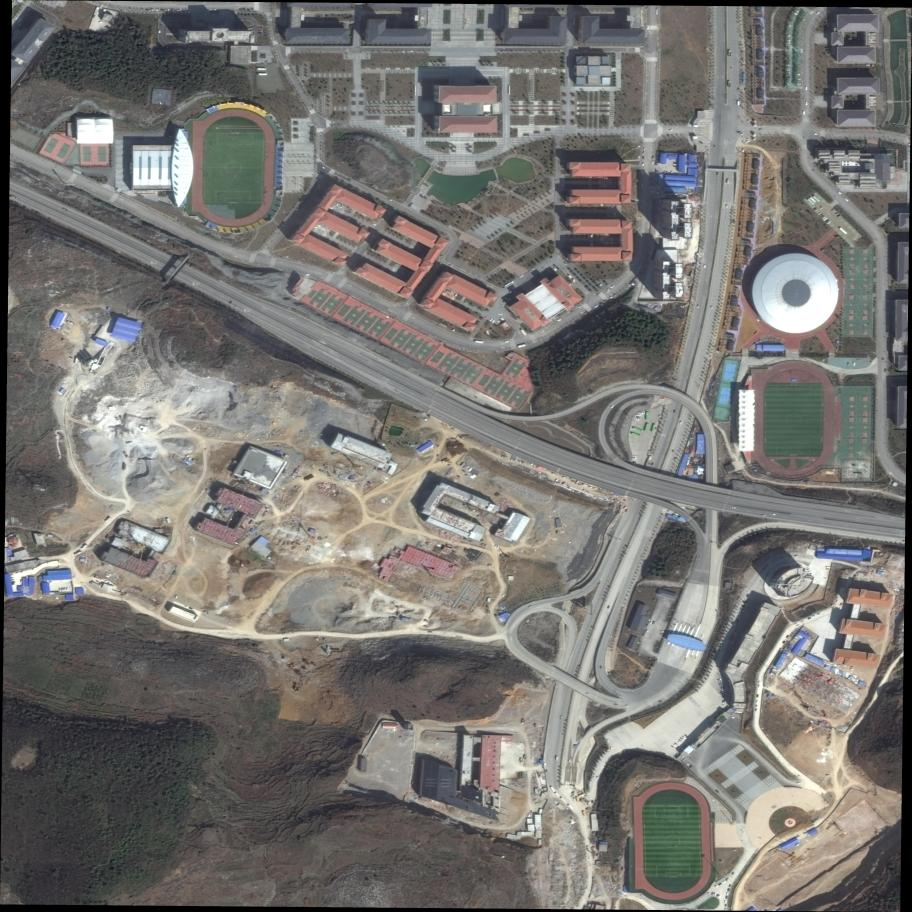large-vehicle: (630, 431, 642, 438), (632, 426, 643, 433), (807, 198, 816, 206), (809, 196, 818, 204), (812, 195, 821, 203), (839, 227, 848, 235), (520, 328, 527, 337), (643, 423, 650, 432), (517, 343, 526, 349), (650, 424, 656, 433), (475, 340, 484, 344), (645, 412, 649, 420), (258, 73, 268, 76), (728, 50, 732, 56), (737, 100, 740, 106), (257, 68, 266, 70)
small-vehicle: (609, 404, 615, 410), (844, 197, 850, 203), (812, 206, 818, 212), (518, 274, 524, 279), (511, 285, 517, 290), (593, 304, 599, 309), (836, 190, 842, 195), (792, 11, 798, 16), (793, 8, 799, 13), (830, 207, 836, 212), (717, 893, 722, 899), (836, 213, 842, 218), (586, 846, 591, 852), (685, 762, 691, 767), (339, 204, 344, 209), (497, 319, 502, 324), (501, 593, 506, 598), (610, 284, 615, 289), (583, 310, 588, 315), (502, 286, 507, 291), (819, 213, 824, 218), (815, 11, 820, 16), (817, 211, 822, 216), (807, 616, 812, 621), (834, 211, 839, 216), (688, 764, 693, 769), (673, 743, 678, 748), (680, 505, 685, 510), (700, 634, 705, 639), (675, 750, 680, 755), (680, 737, 685, 742), (577, 305, 583, 309), (785, 23, 791, 27), (800, 17, 806, 21), (805, 568, 811, 572), (760, 513, 766, 517), (727, 81, 731, 87), (726, 178, 730, 184), (613, 703, 619, 707), (716, 678, 722, 682), (373, 223, 378, 227), (454, 293, 458, 298), (484, 315, 488, 320), (489, 318, 493, 323), (492, 319, 496, 324), (496, 545, 500, 550), (335, 202, 339, 207), (388, 198, 393, 202), (557, 318, 562, 322), (641, 162, 645, 167), (822, 216, 827, 220), (823, 217, 828, 221), (827, 221, 832, 225), (794, 622, 799, 626), (811, 614, 816, 618), (816, 612, 821, 616), (807, 570, 812, 574), (823, 577, 828, 581), (528, 605, 533, 609), (646, 629, 650, 634), (674, 512, 679, 516), (660, 629, 665, 633), (719, 683, 724, 687), (682, 735, 687, 739), (721, 688, 726, 692), (498, 313, 504, 316), (176, 8, 182, 11), (785, 34, 791, 37), (730, 716, 736, 719), (825, 566, 831, 569), (793, 554, 799, 557), (721, 701, 727, 704), (501, 317, 505, 321), (659, 396, 663, 400), (553, 267, 557, 271), (609, 296, 613, 300), (703, 264, 707, 268), (586, 692, 590, 696), (728, 884, 732, 888), (722, 880, 726, 884), (599, 666, 603, 670), (606, 605, 610, 609), (650, 620, 654, 624), (636, 413, 641, 416), (504, 341, 509, 344), (249, 27, 254, 30), (212, 8, 217, 11), (408, 50, 413, 53), (662, 396, 665, 401), (396, 50, 401, 53), (207, 8, 212, 11), (150, 8, 155, 11), (145, 8, 150, 11), (635, 418, 640, 421), (805, 101, 808, 106), (805, 86, 808, 91), (795, 73, 800, 76), (786, 64, 791, 67), (785, 39, 790, 42), (808, 573, 813, 576), (772, 513, 777, 516), (853, 362, 856, 367), (556, 756, 559, 761), (568, 758, 571, 763), (697, 304, 700, 309), (731, 506, 736, 509), (718, 682, 723, 685), (717, 680, 722, 683), (721, 690, 726, 693), (258, 30, 262, 33), (401, 50, 405, 53), (642, 156, 645, 160), (642, 151, 645, 155), (643, 146, 646, 150), (655, 11, 658, 15), (165, 9, 169, 12), (140, 8, 144, 11), (158, 29, 161, 33), (796, 83, 802, 85), (784, 69, 790, 71), (730, 66, 733, 70), (820, 206, 823, 210), (836, 599, 839, 603), (720, 685, 724, 688), (758, 680, 761, 684), (758, 684, 761, 688), (756, 700, 759, 704), (755, 708, 758, 712), (171, 9, 176, 11), (803, 111, 805, 116), (796, 78, 801, 80), (785, 42, 790, 44), (625, 705, 630, 707), (632, 457, 637, 459), (632, 455, 637, 457), (721, 693, 726, 695), (722, 704, 727, 706), (652, 157, 655, 160), (725, 896, 728, 899), (726, 892, 729, 895), (560, 716, 563, 719), (259, 27, 263, 29), (258, 29, 262, 31), (652, 161, 654, 165), (647, 26, 649, 30), (156, 9, 160, 11), (641, 412, 645, 414), (656, 8, 658, 11), (756, 704, 758, 707)
storage-tank: (748, 252, 843, 335)
